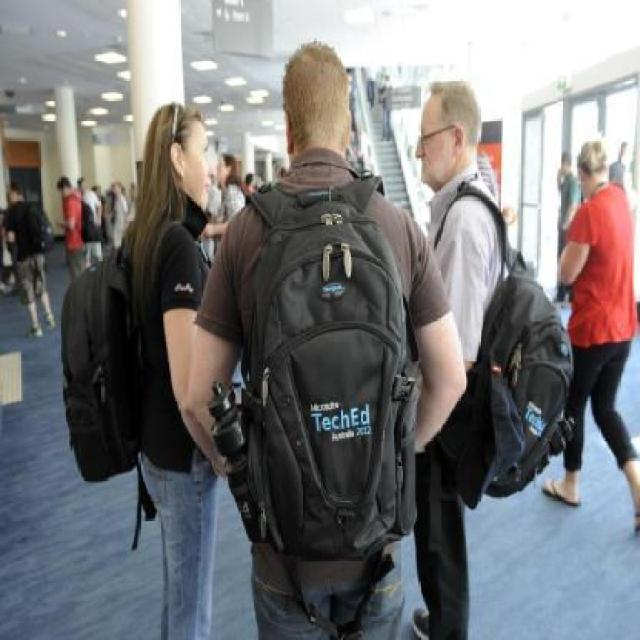backpack: (213, 168, 424, 563), (475, 242, 577, 509), (60, 237, 138, 486)
